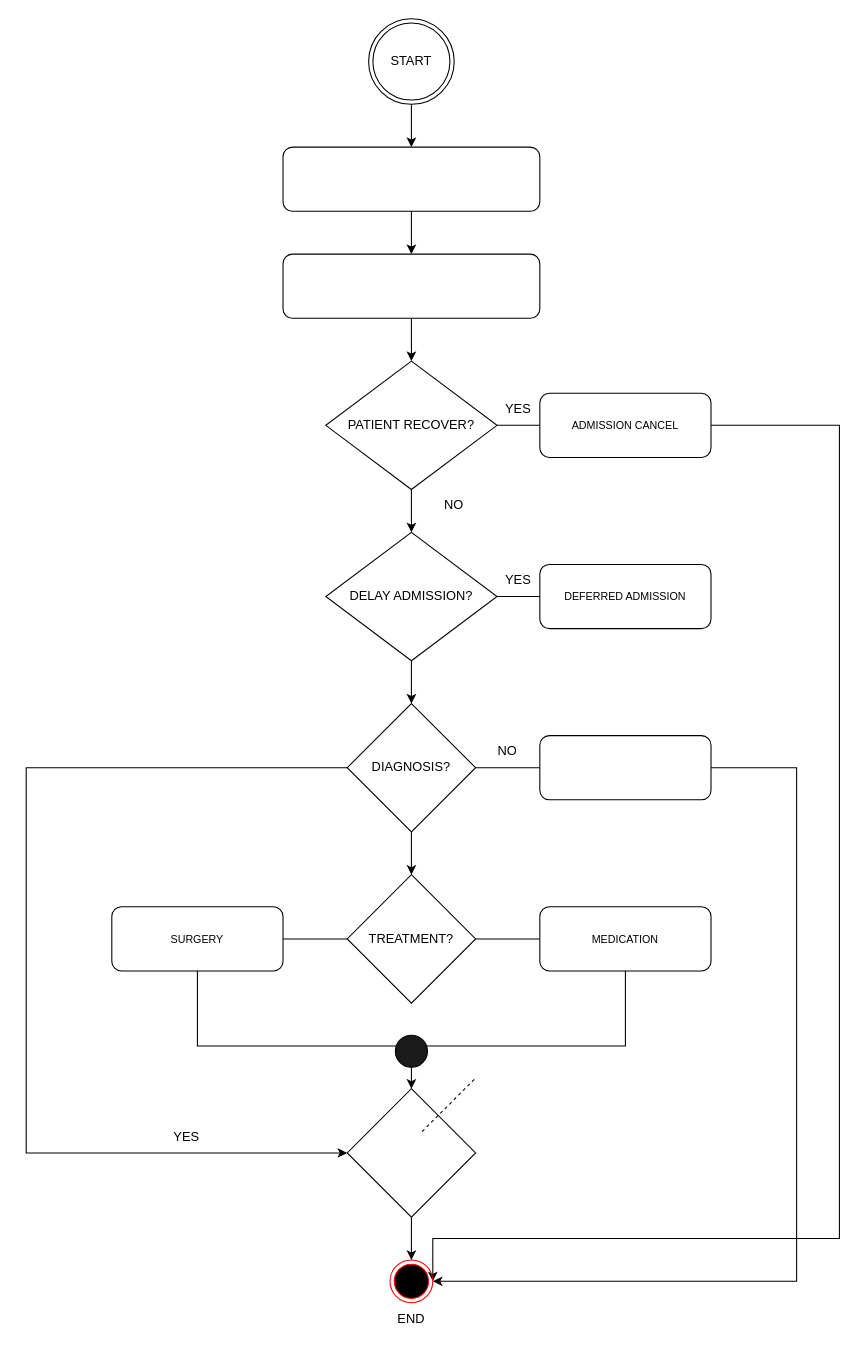
This 867x1354 diagram has some shape labels left out. The centre of each missing label's shape, as x and y in pixels:
"COMMUNITY DOCTOR REFERS PATIENT" belongs at point 411,178.
"DISCHARGED" belongs at point 625,767.
"MORE TREATMENT?" belongs at point 411,1152.
"RECORDS PLANNED ADMISSION" belongs at point 411,285.
